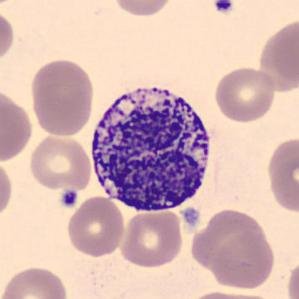Basophil: (85, 76, 218, 218)
Platelets: (180, 206, 201, 230), (58, 188, 79, 210), (212, 0, 235, 15)
RBC: (28, 56, 98, 138), (188, 207, 270, 274), (65, 193, 127, 259), (210, 231, 278, 291), (118, 208, 184, 269), (27, 132, 93, 192), (212, 64, 278, 124), (256, 15, 298, 94), (264, 134, 298, 215), (0, 86, 35, 164), (0, 263, 71, 299), (110, 0, 176, 18), (182, 288, 276, 299), (0, 156, 15, 223), (0, 6, 16, 66), (285, 257, 299, 299), (0, 0, 23, 8)
